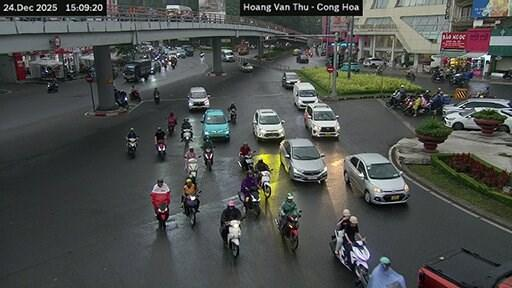motorbike: (330, 229, 368, 286), (275, 211, 300, 247), (150, 192, 167, 229), (239, 187, 259, 216), (224, 220, 240, 256), (185, 190, 199, 225), (258, 171, 271, 198), (237, 151, 255, 170), (386, 90, 403, 108), (156, 202, 167, 229), (186, 158, 197, 181), (202, 148, 213, 170), (115, 90, 128, 108), (450, 72, 467, 85), (182, 127, 191, 149), (156, 139, 165, 160), (128, 138, 135, 157), (403, 102, 412, 115), (416, 104, 428, 113), (432, 72, 444, 81), (167, 121, 175, 134), (47, 81, 57, 91), (130, 90, 140, 100), (502, 68, 511, 79), (66, 70, 76, 79), (230, 108, 236, 122), (406, 72, 415, 81), (153, 94, 159, 103), (170, 62, 175, 68), (198, 156, 199, 157)
